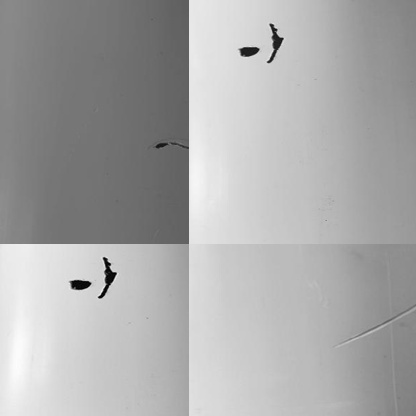fengxi: (149, 136, 185, 154)
kongdong: (97, 254, 124, 304), (264, 22, 291, 64), (67, 276, 91, 292), (232, 45, 255, 59)
sunshang: (331, 299, 411, 346)
